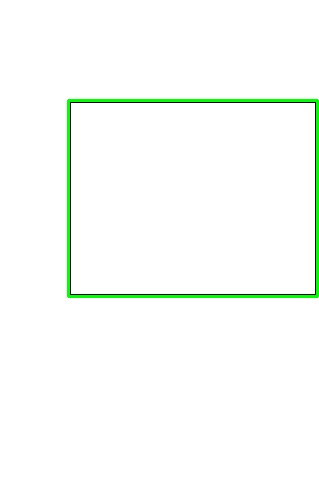line_segment: (67, 99, 319, 298)
